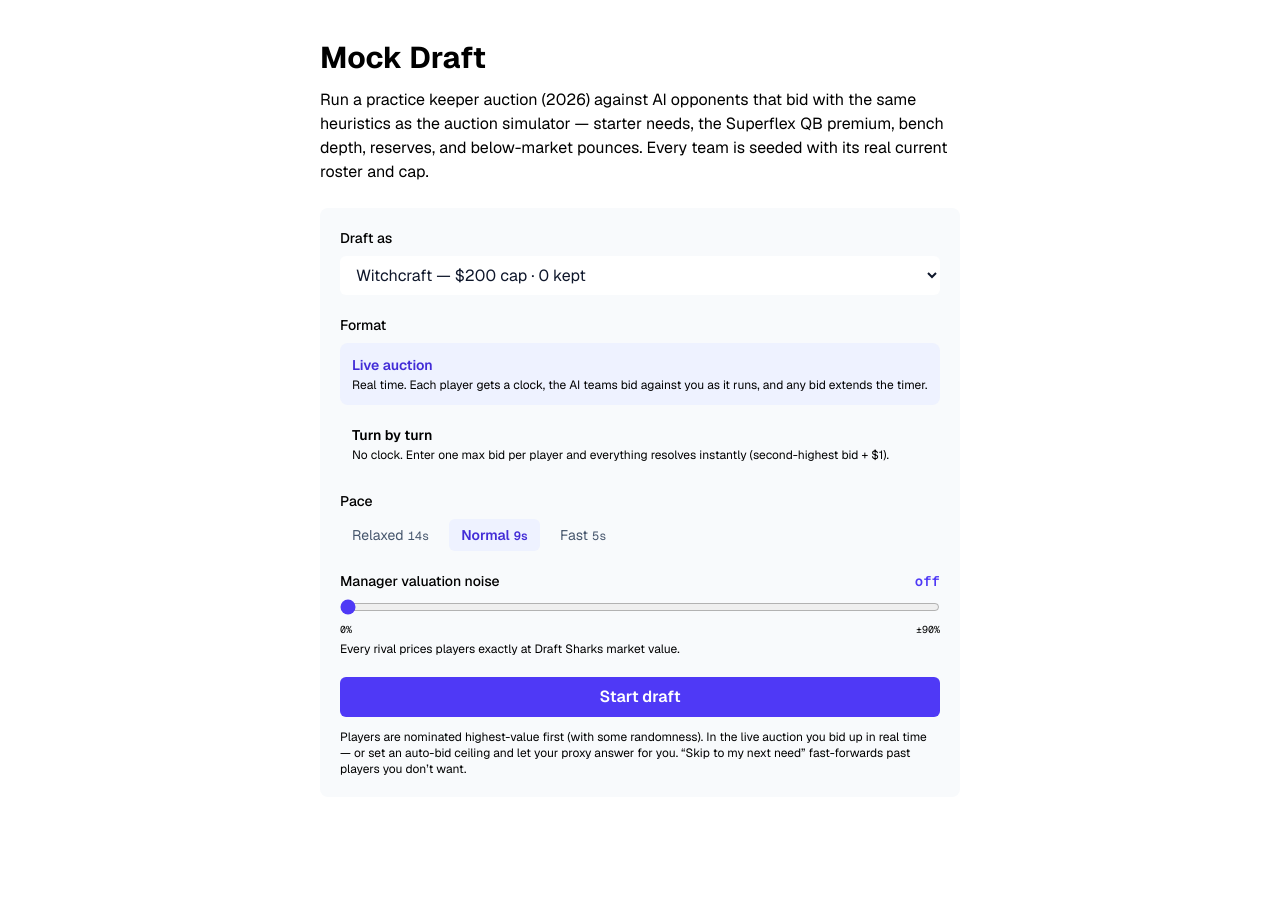
Test: MockDraftClient (live auction) › lets the AI bid on their own while the clock runs
The width and height of the screenshot is (1280, 900).
What coordinates should you click on to do the following:
click the button "Start draft"
I would click on:
 (640, 697)
Its box is [340,677,940,717].
Wait 4000 ms
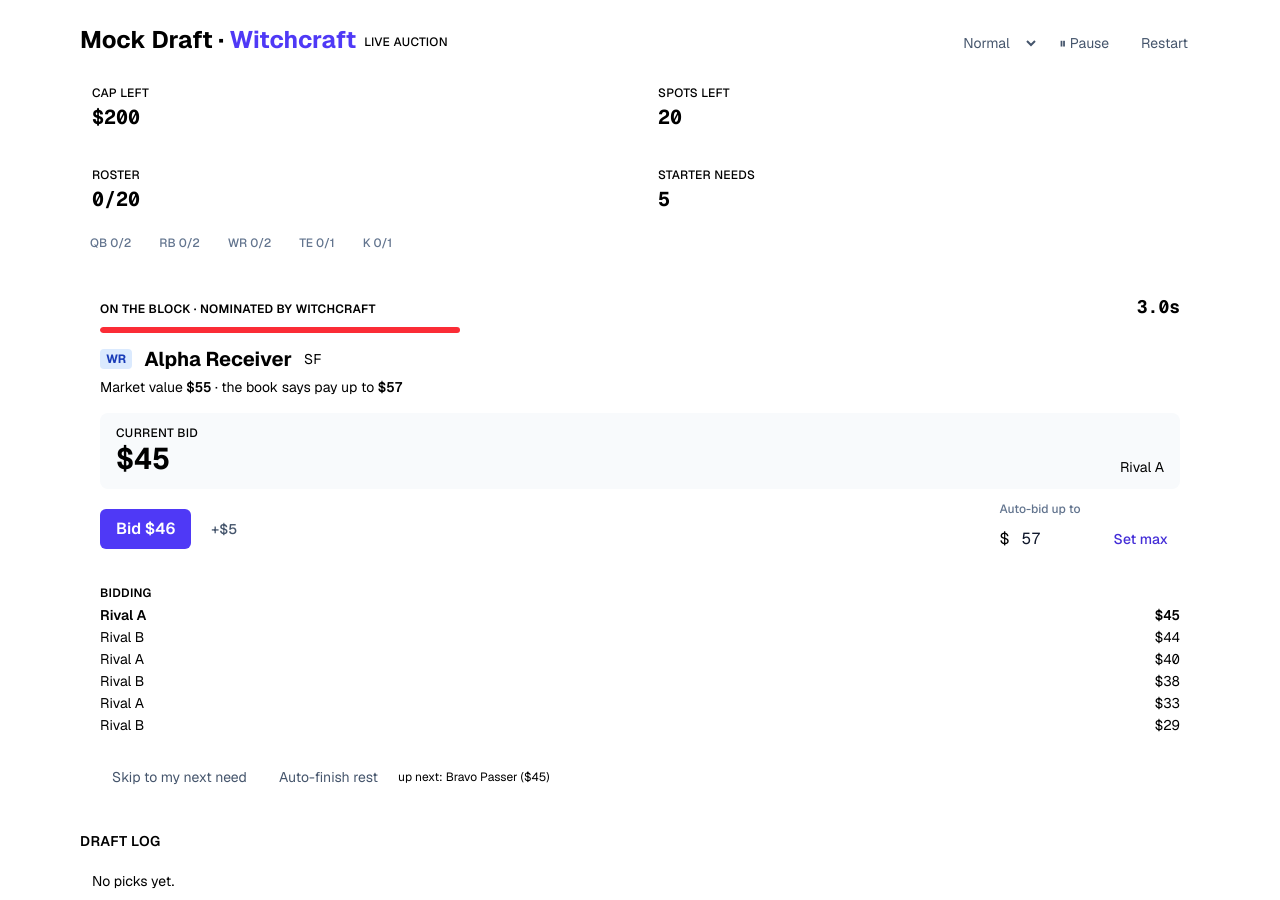
Expected: the text "Waiting for an opening bid" is shown, [100,605,1180,735]
Expected: the text "Bidding" is shown, [100,585,152,601]
